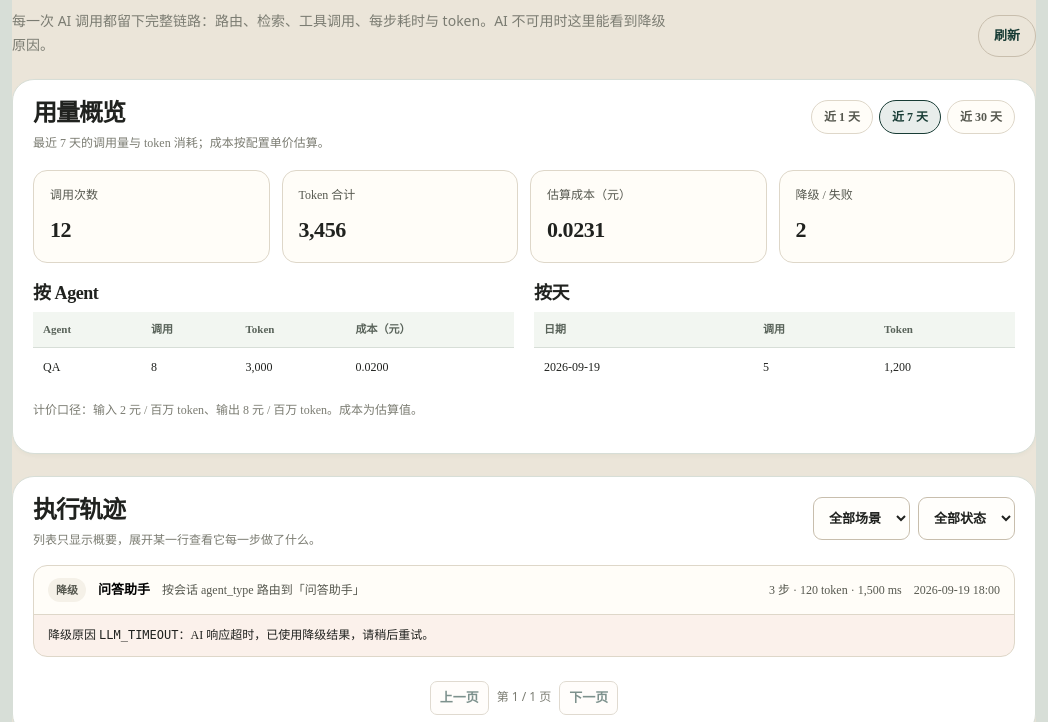
it: AiTraces › loads and renders step timeline after expanding a trace
The image size is (1048, 722).
Click the button with class "trace-summary": x=67, y=590 [34, 566, 1014, 614]
(page scrolled)
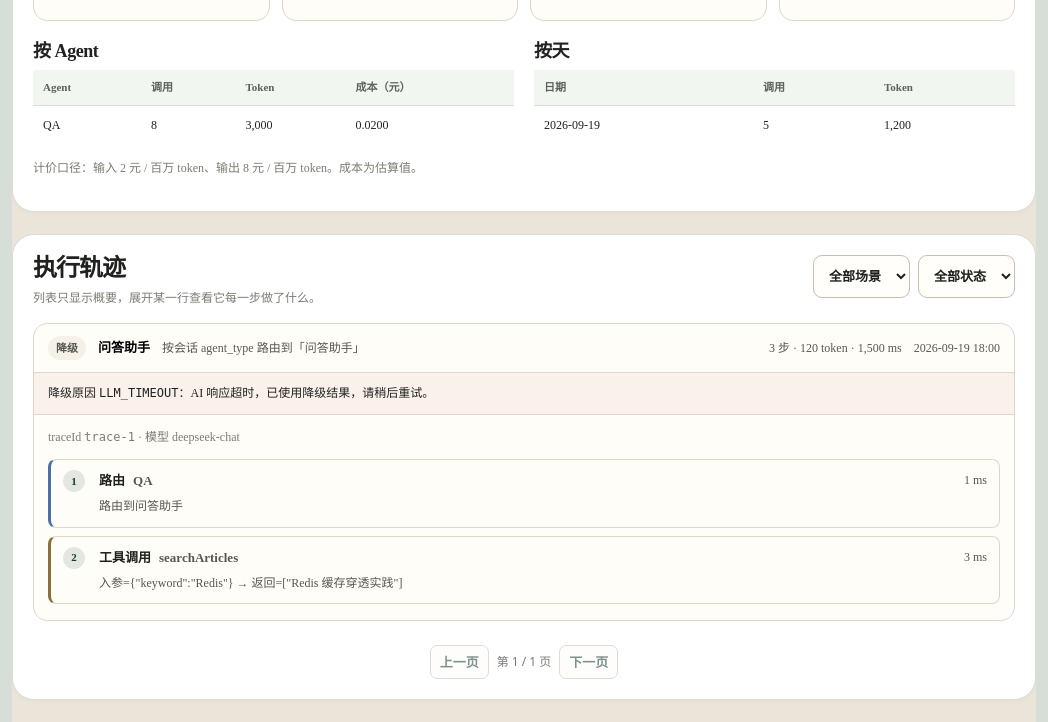
Now the text "工具调用" is shown, box [99, 550, 151, 564]
Now the text "入参={\"keyword\":\"Redis\"} → 返回=[\"Redis 缓存穿透实践\"]" is shown, box [99, 576, 402, 590]
